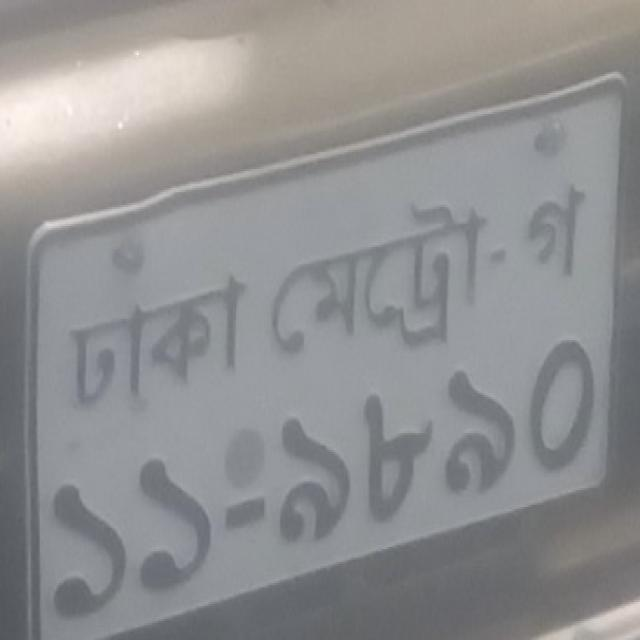cng: (269, 201, 488, 355)
numberplate: (18, 65, 633, 637)
